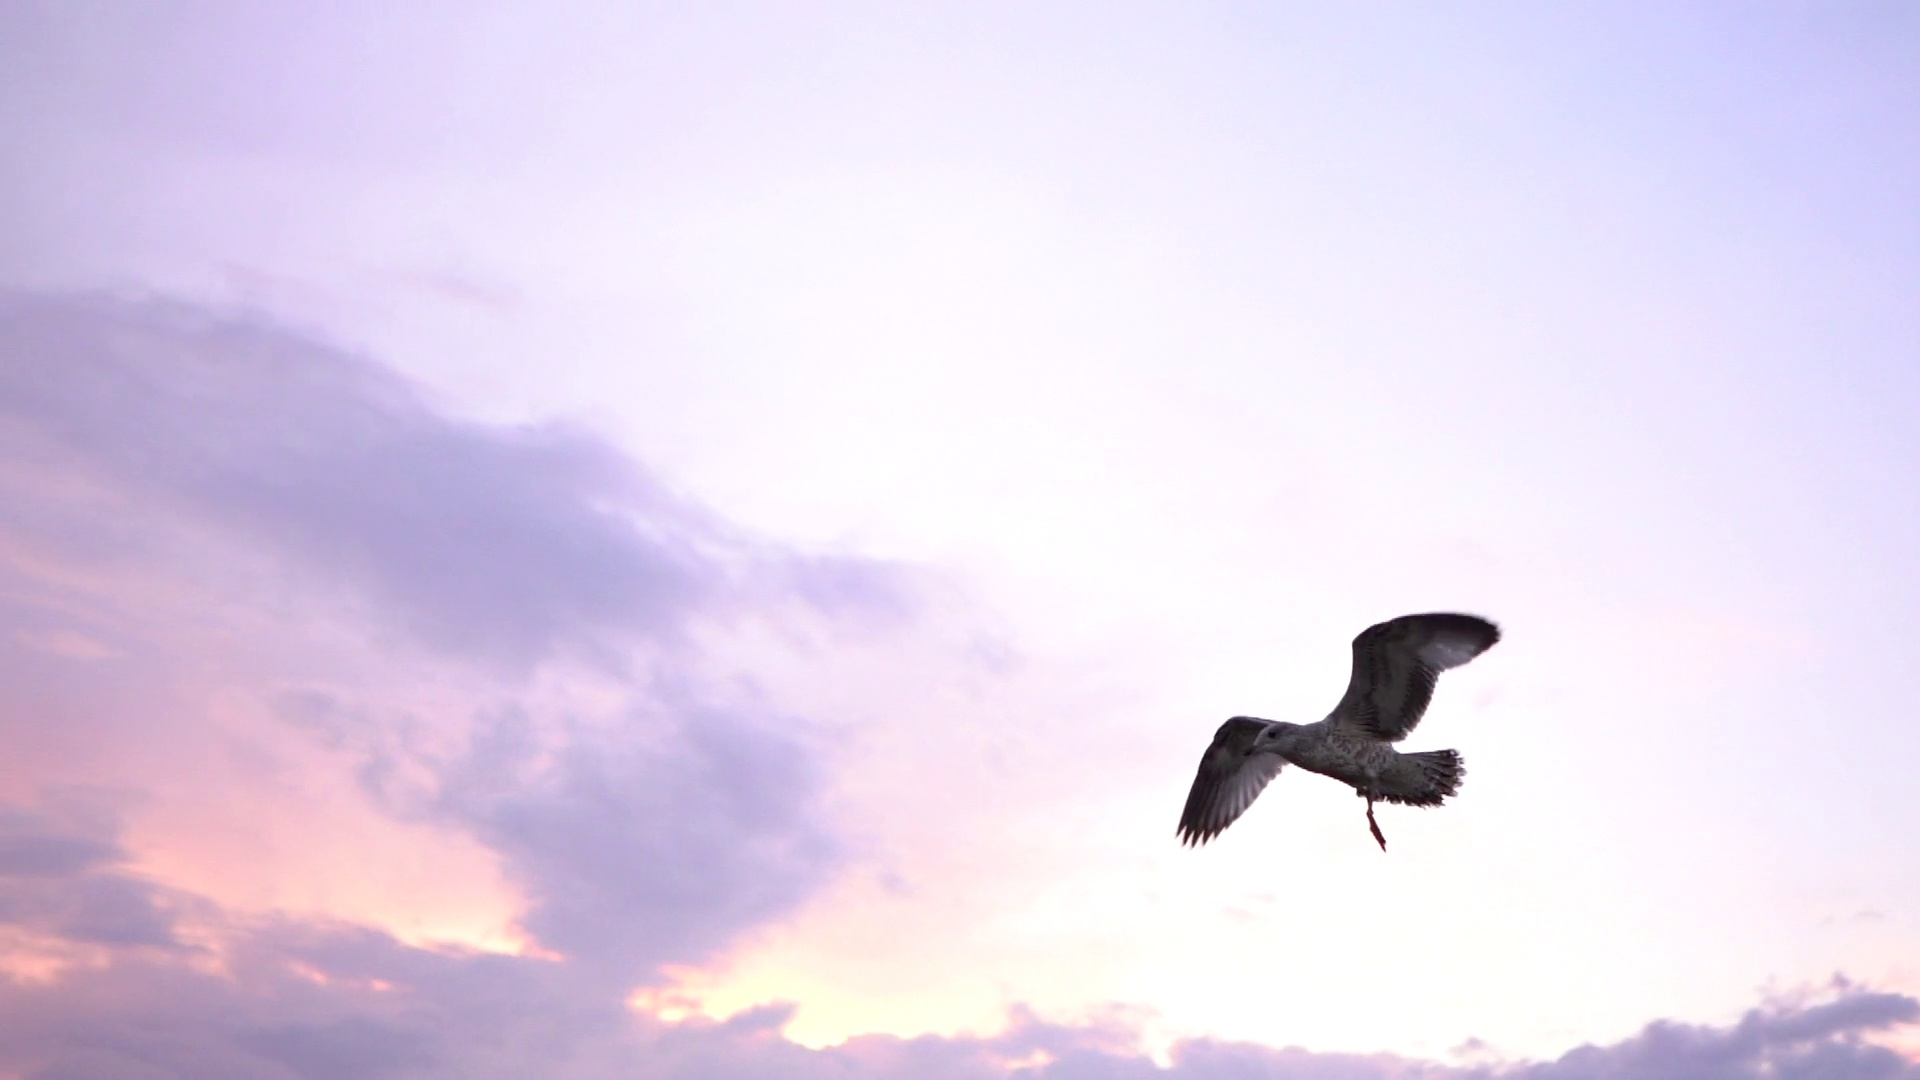bird: (1174, 611, 1502, 847)
